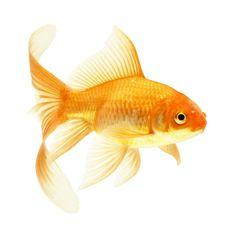goldfish: (36, 56, 219, 186)
